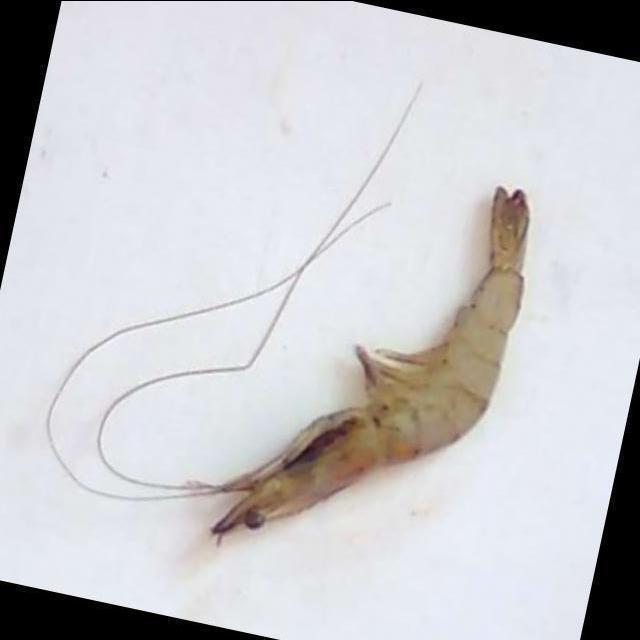shrimp: (211, 185, 530, 536)
